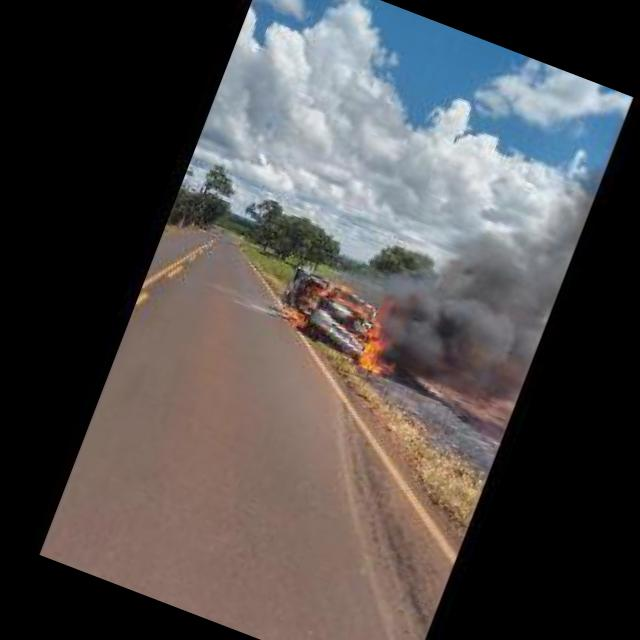fire: (303, 267, 373, 315), (348, 318, 401, 376), (280, 304, 309, 328)
smoke: (346, 186, 580, 435)
